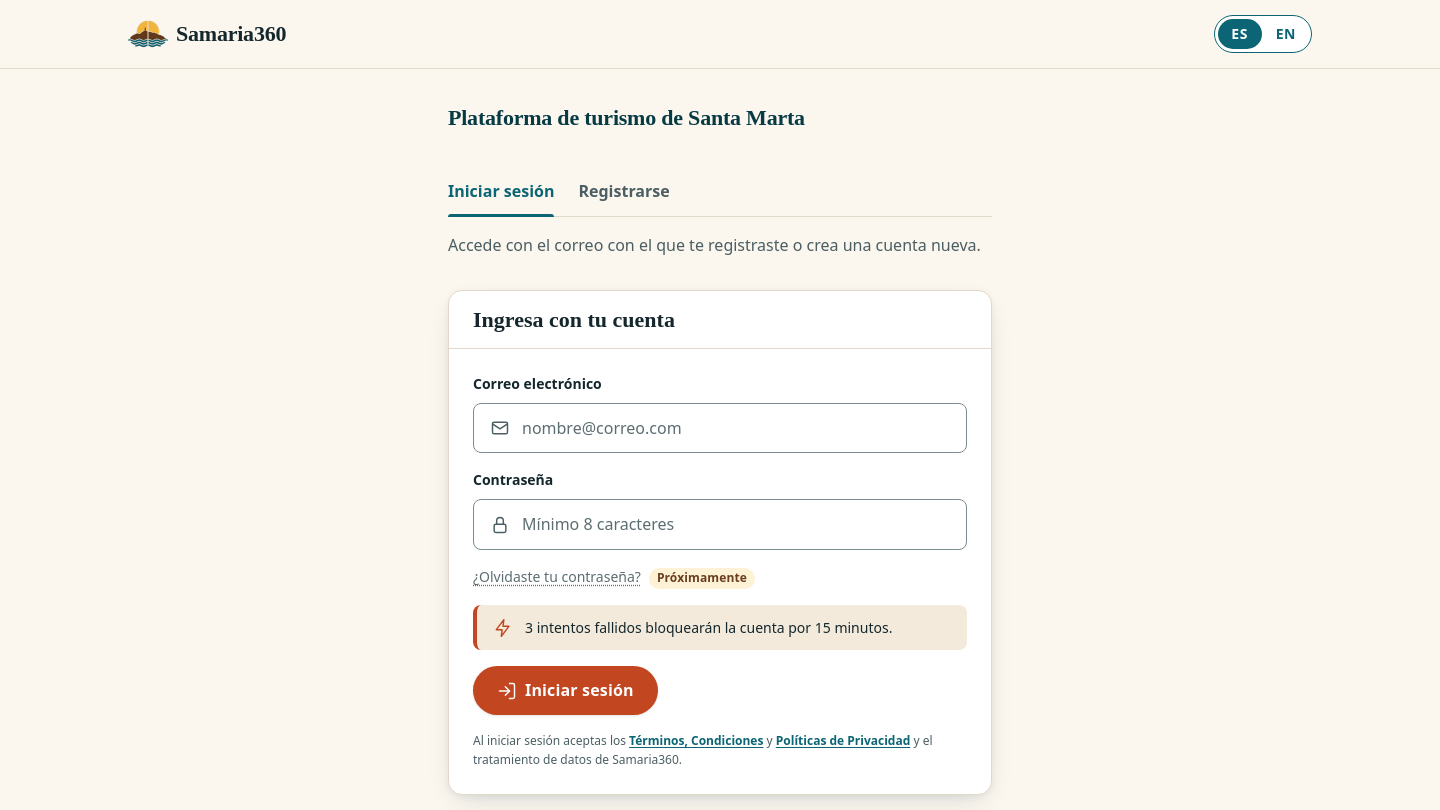
it: Cambio de idioma (RF03, RNF08) › el mensaje de error mostrado también se traduce
The image size is (1440, 810).
Type "turista@samaria360.test" into the field labelled "Correo electrónico" at (736, 428), box left=522, top=404, right=950, bottom=452
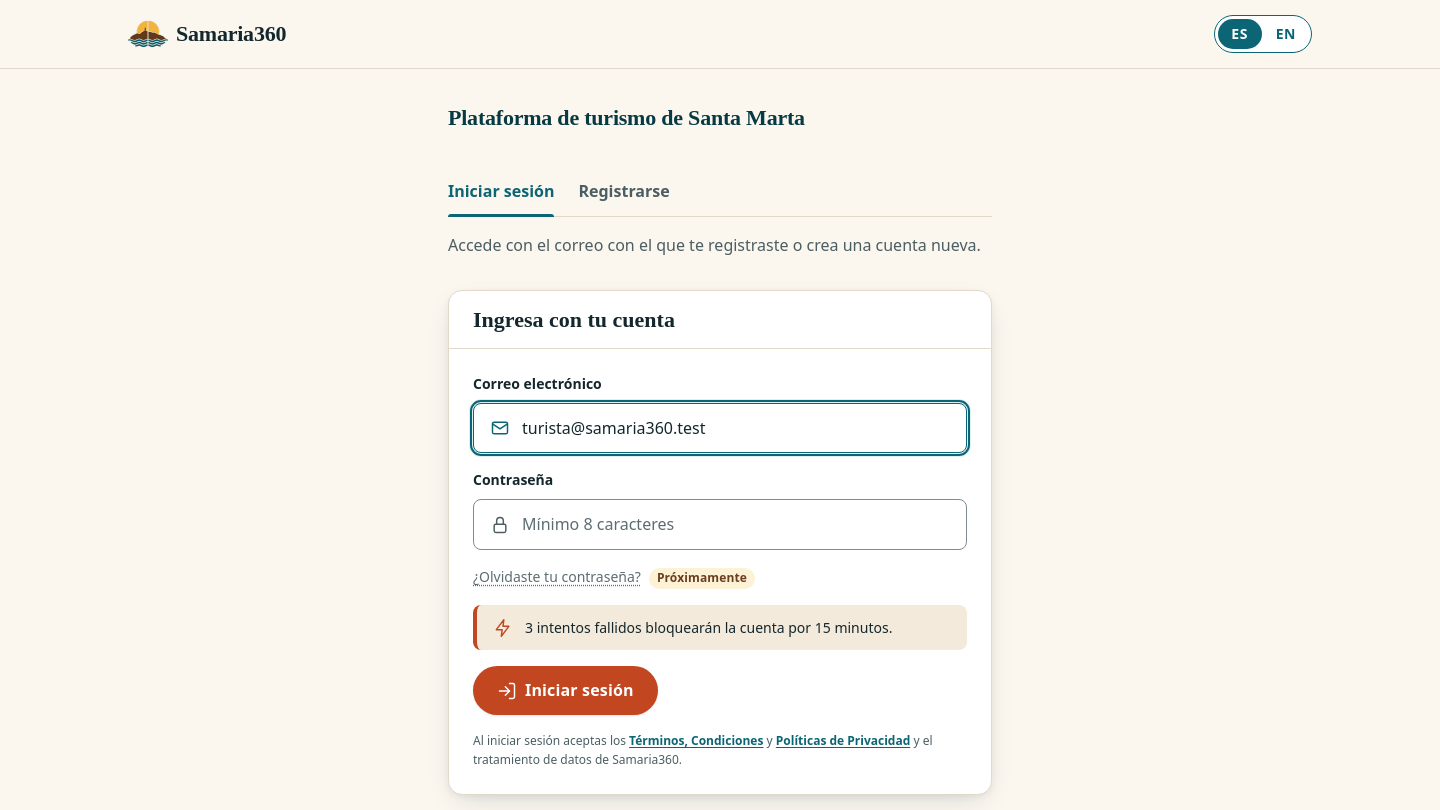
Type "incorrecta" into the password field labelled "Contraseña" at (736, 525), box left=522, top=500, right=950, bottom=549
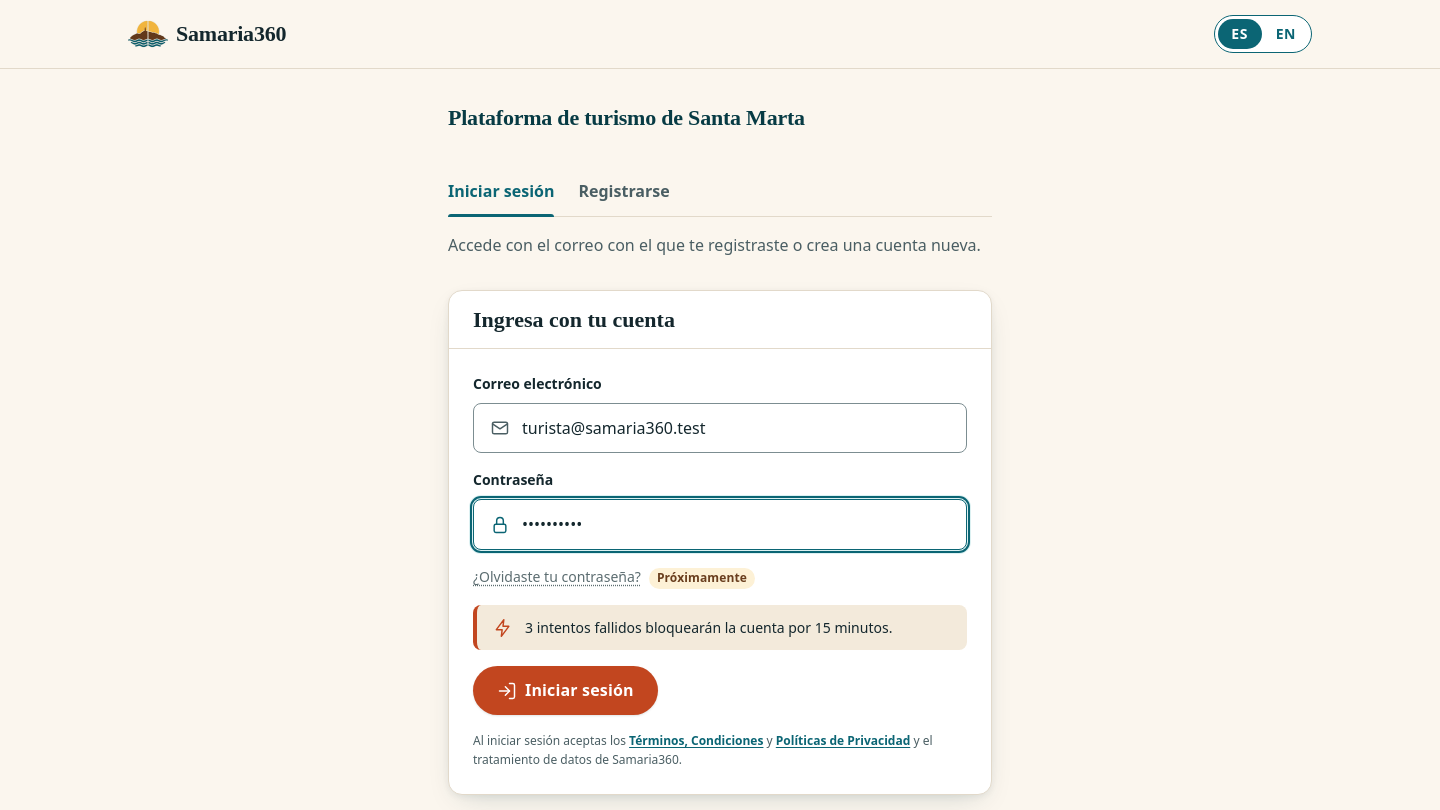
Click the button "Iniciar sesión" at (565, 691), box left=473, top=666, right=658, bottom=715
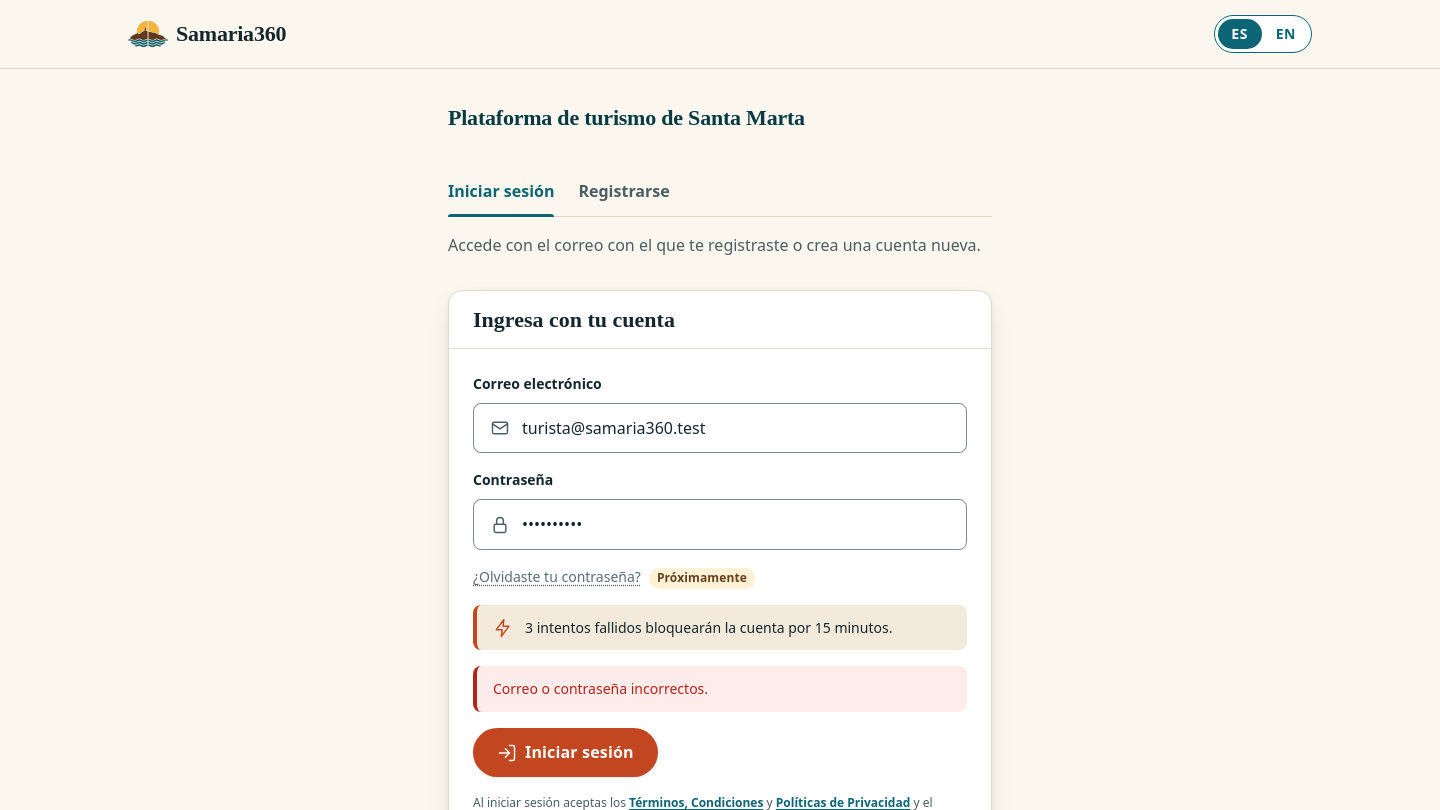
Check: the text "Correo o contraseña incorrectos." is shown, box left=473, top=666, right=967, bottom=712
Click the button with aria-label "Inglés" at (1286, 34), box left=1264, top=19, right=1308, bottom=49
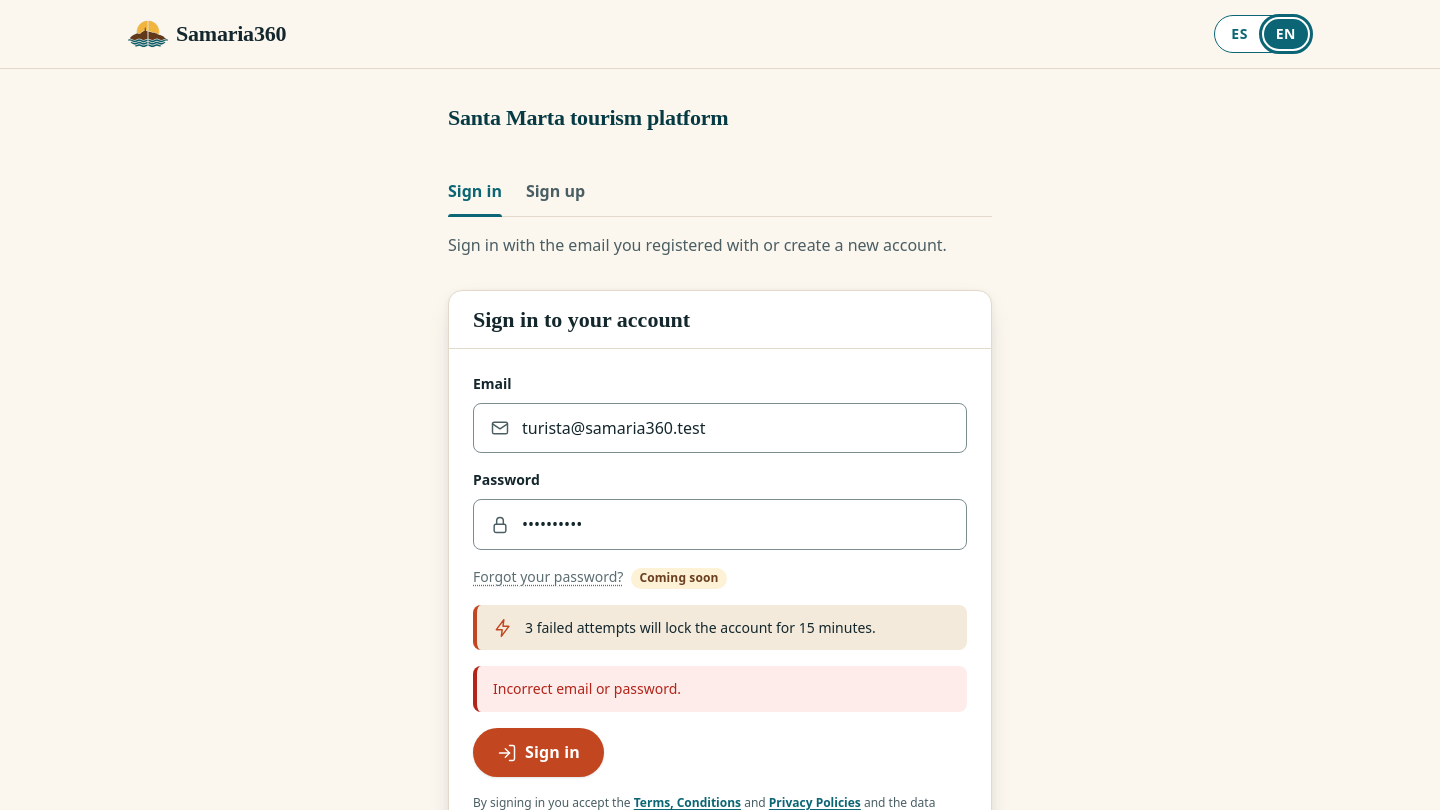
Check: the text "Incorrect email or password." is shown, box left=473, top=666, right=967, bottom=712
